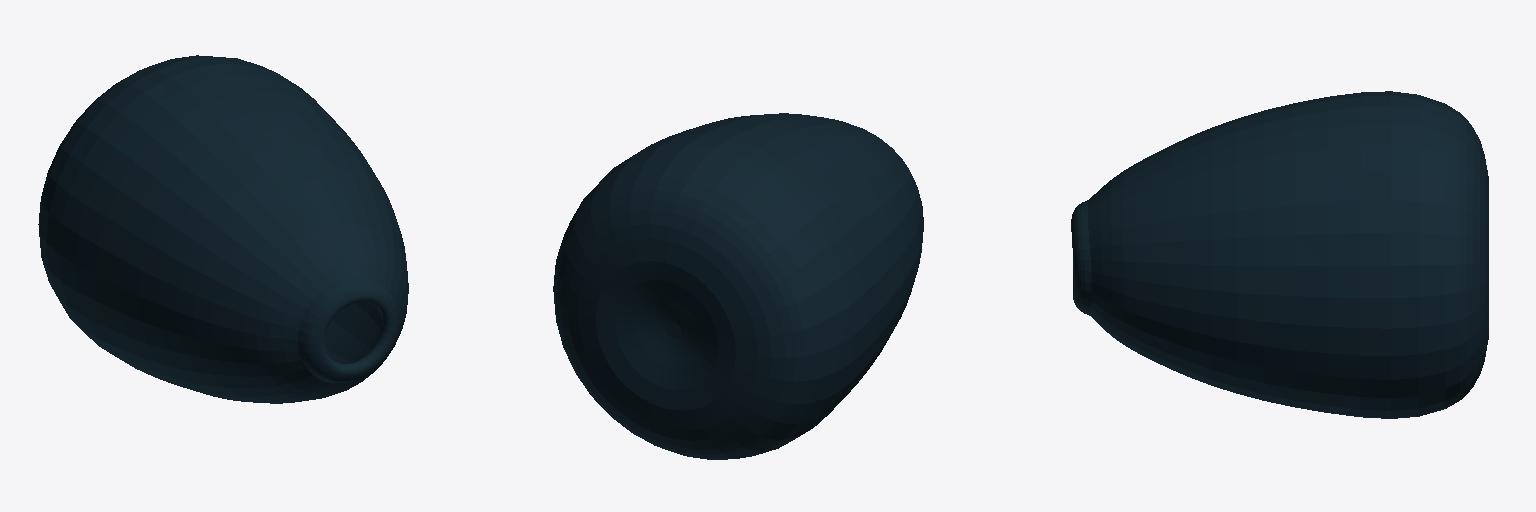
Rendered from BlueVase.obj.
The picture shows the model from 3 angles: view 1: azimuth 30°, elevation 25°; view 2: azimuth 150°, elevation 25°; view 3: azimuth 270°, elevation 25°; orthographic projection.
Parts seen in each view (by area): view 1: BlueVase; view 2: BlueVase; view 3: BlueVase.
Part boxes in pixels (left/top/right/bottom): BlueVase: left=38, top=55, right=408, bottom=403; BlueVase: left=553, top=113, right=923, bottom=459; BlueVase: left=1071, top=91, right=1488, bottom=418.
Size of the model in its own units: 0.1684 by 0.1684 by 0.2144.